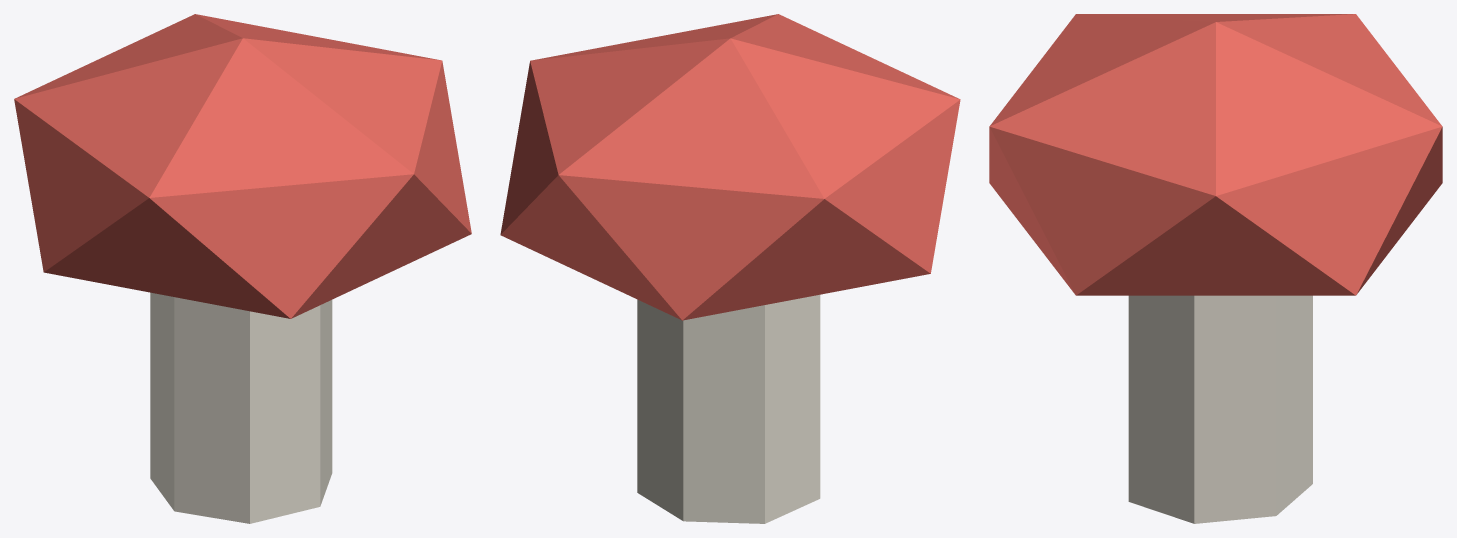
The model's file is champignon.glb.
3 views of the same model, side by side, from view 1: azimuth 30°, elevation 25°; view 2: azimuth 150°, elevation 25°; view 3: azimuth 270°, elevation 25° (orthographic). The views are drawn at different scales.
Parts seen in each view (by area): view 1: Icosphere, Cylinder; view 2: Icosphere, Cylinder; view 3: Icosphere, Cylinder.
Boxes of the visible parts, left/top/right/bottom form: Icosphere: left=14, top=14, right=471, bottom=318; Cylinder: left=150, top=292, right=332, bottom=523; Icosphere: left=500, top=14, right=960, bottom=320; Cylinder: left=637, top=294, right=820, bottom=523; Icosphere: left=989, top=14, right=1442, bottom=295; Cylinder: left=1128, top=295, right=1312, bottom=523.
Bounding box in the file's own units: 0.3935 × 0.421 × 0.3743.
